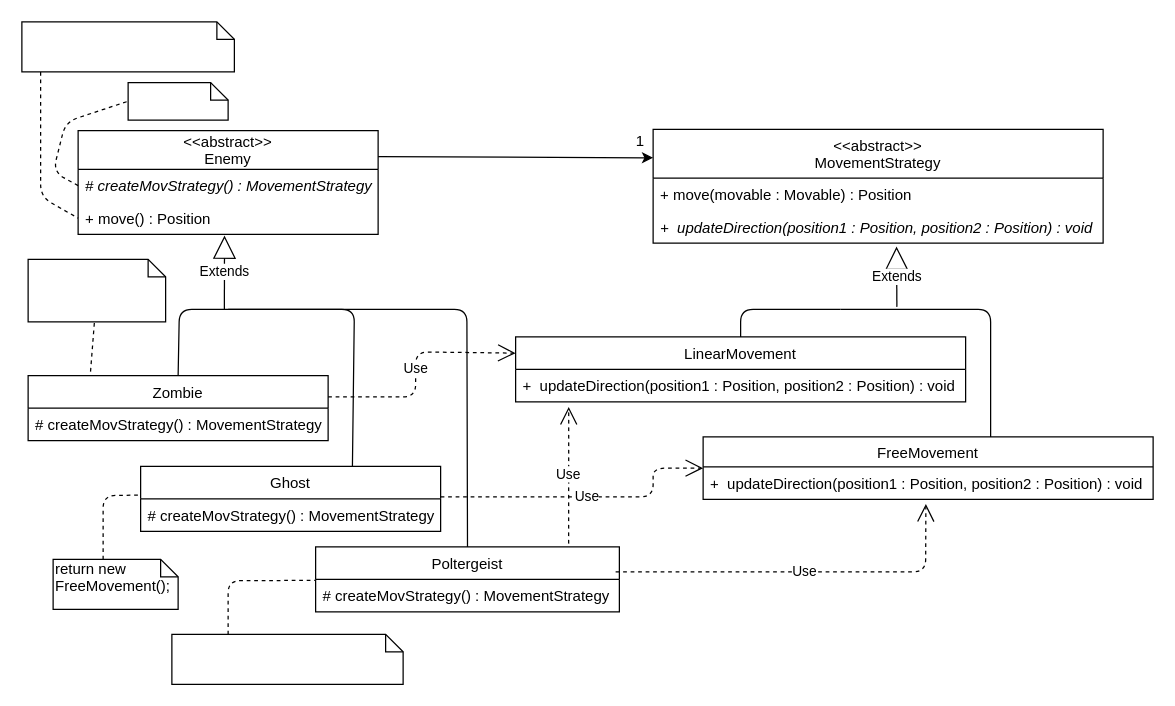
Some shapes in this 1175 by 706 pixel diagram are drawn without their labels. Here are the shapes that lost their labels. From the top down, the centre of each, then its label:
At point (127, 46): "return movementStrategy.move(this);".
At point (177, 100): "the factory method".
At point (96, 290): "return new LinearMovement();".
At point (287, 658): "can return either one of them; randomized".
